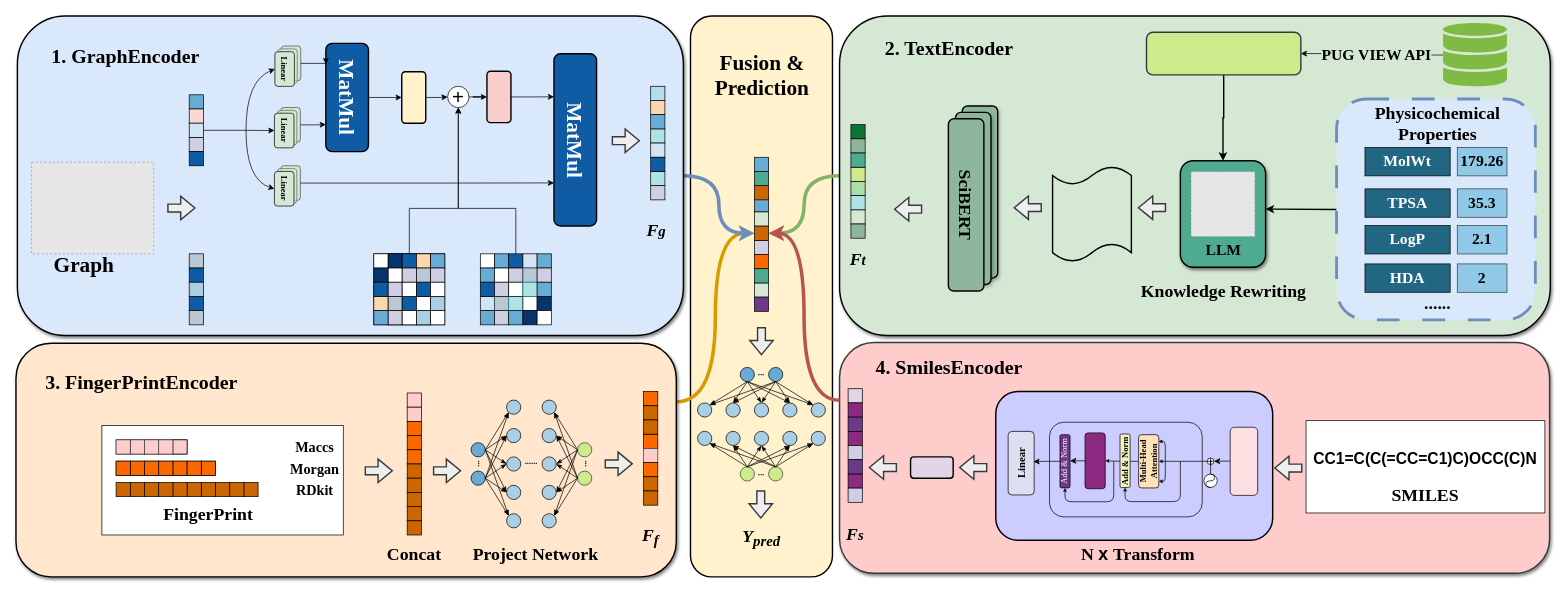
Some shapes in this 1567 by 594 pixel diagram are drawn without their labels. Grey dashed boxes stand in for pictures. The shapes that lost their labels are listed below. From the top down, each one's centre as x and y in pixels, then its label:
pixel 1223 53: Text Data
pixel 413 97: Scale
pixel 498 96: SoftMax
pixel 1092 213: This molecule is an aromatic ether and primary amino compound......
pixel 932 467: CLS
pixel 1094 460: Feed Forwad
pixel 1244 461: Input Embedding
